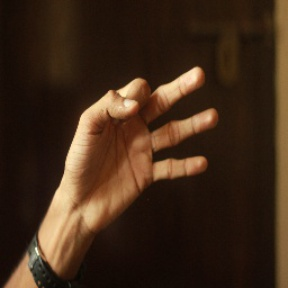K: (70, 66, 215, 220)
